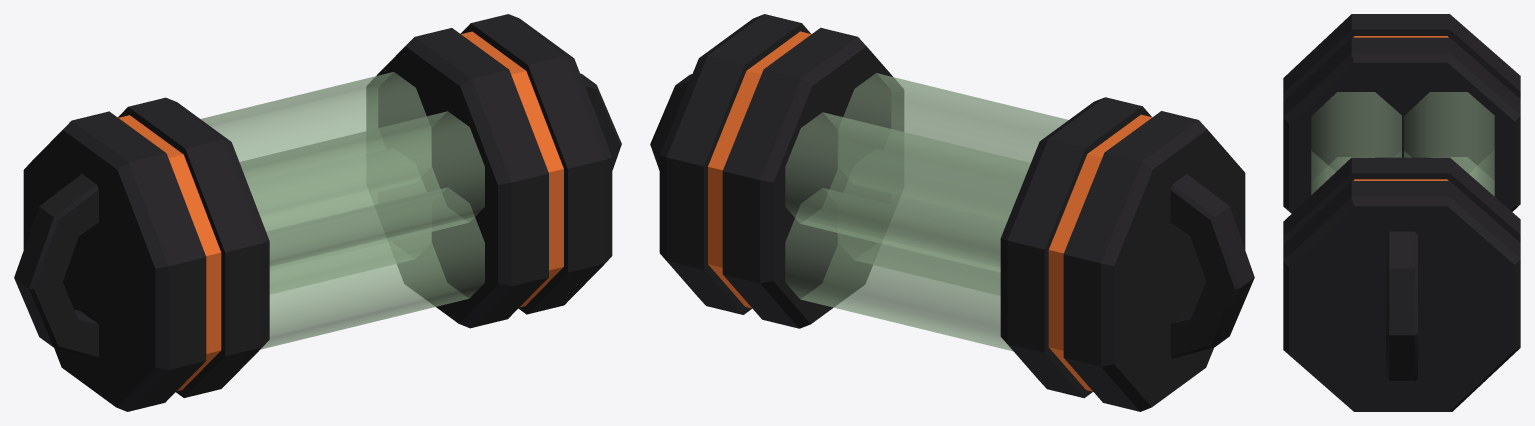
File: Medkit_Large.fbx
3 renders of one model, left to right at view 1: azimuth 30°, elevation 25°; view 2: azimuth 150°, elevation 25°; view 3: azimuth 270°, elevation 25°, orthographic. The views are drawn at different scales.
Parts seen in each view (by area): view 1: Medkit_Large; view 2: Medkit_Large; view 3: Medkit_Large.
Part boxes in pixels (x1=…): Medkit_Large: x1=14, y1=14, x2=621, y2=411; Medkit_Large: x1=650, y1=14, x2=1254, y2=411; Medkit_Large: x1=1283, y1=14, x2=1520, y2=411.
Size of the model in its own units: 175 by 70.84 by 70.84.
